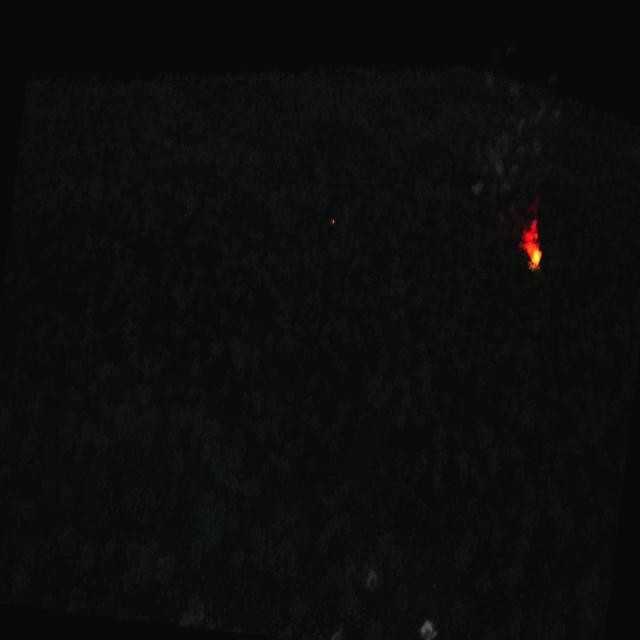fire: (518, 219, 546, 269), (328, 216, 336, 227)
smoke: (460, 66, 559, 218), (487, 40, 516, 66), (362, 564, 381, 592), (326, 622, 353, 640), (416, 618, 437, 640)
